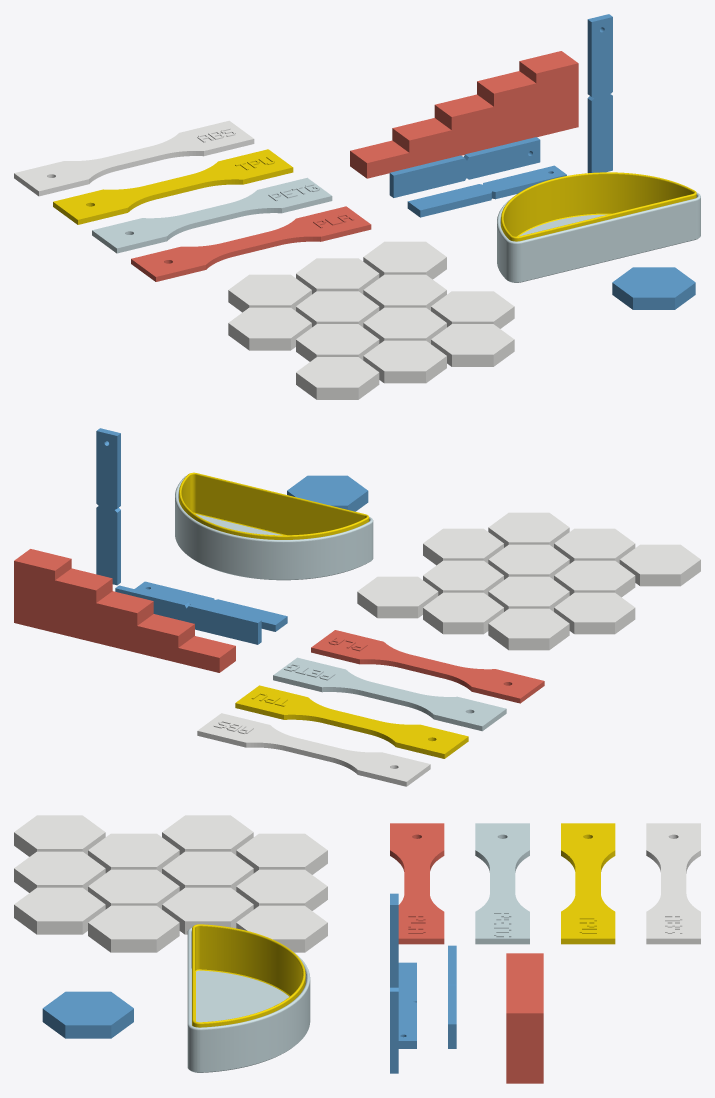
File: piezas-poster-haptico-v2.glb
3 views of the same model, one above another, from view 1: azimuth 30°, elevation 25°; view 2: azimuth 150°, elevation 25°; view 3: azimuth 270°, elevation 25° (orthographic). The views are drawn at different scales.
Visible parts, largest first — view 1: Placa de hexagonos, Escalera de capas, Carcasa PETG, Forro TPU, Probeta PLA, Probeta TPU, Probeta PETG, Probeta ABS, Barra de canto, Barra de pie, Hexagono de relleno, Barra tumbada; view 2: Placa de hexagonos, Escalera de capas, Carcasa PETG, Forro TPU, Probeta TPU, Probeta PLA, Probeta ABS, Probeta PETG, Barra de pie, Barra de canto, Hexagono de relleno, Barra tumbada; view 3: Placa de hexagonos, Carcasa PETG, Forro TPU, Probeta ABS, Probeta PETG, Probeta TPU, Probeta PLA, Escalera de capas, Hexagono de relleno, Barra tumbada, Barra de pie, Barra de canto.
Part boxes in pixels (x1=…): Placa de hexagonos: x1=228, y1=241, x2=514, y2=399; Escalera de capas: x1=350, y1=51, x2=578, y2=178; Carcasa PETG: x1=497, y1=192, x2=700, y2=282; Forro TPU: x1=501, y1=172, x2=696, y2=241; Probeta PLA: x1=131, y1=206, x2=371, y2=281; Probeta TPU: x1=53, y1=149, x2=293, y2=224; Probeta PETG: x1=92, y1=177, x2=332, y2=253; Probeta ABS: x1=14, y1=120, x2=254, y2=196; Barra de canto: x1=389, y1=137, x2=540, y2=197; Barra de pie: x1=587, y1=14, x2=612, y2=172; Hexagono de relleno: x1=612, y1=267, x2=695, y2=309; Barra tumbada: x1=407, y1=165, x2=566, y2=217; Placa de hexagonos: x1=357, y1=512, x2=700, y2=650; Escalera de capas: x1=14, y1=549, x2=235, y2=672; Carcasa PETG: x1=175, y1=476, x2=373, y2=580; Forro TPU: x1=179, y1=472, x2=369, y2=539; Probeta TPU: x1=235, y1=685, x2=468, y2=758; Probeta PLA: x1=311, y1=630, x2=544, y2=703; Probeta ABS: x1=197, y1=713, x2=430, y2=786; Probeta PETG: x1=273, y1=657, x2=506, y2=731; Barra de pie: x1=96, y1=428, x2=120, y2=585; Barra de canto: x1=115, y1=585, x2=261, y2=644; Hexagono de relleno: x1=287, y1=475, x2=368, y2=511; Barra tumbada: x1=134, y1=581, x2=287, y2=631; Placa de hexagonos: x1=14, y1=815, x2=327, y2=952; Carcasa PETG: x1=187, y1=927, x2=310, y2=1072; Forro TPU: x1=192, y1=924, x2=305, y2=1027; Probeta ABS: x1=646, y1=823, x2=700, y2=944; Probeta PETG: x1=475, y1=823, x2=529, y2=944; Probeta TPU: x1=561, y1=823, x2=615, y2=944; Probeta PLA: x1=390, y1=823, x2=444, y2=944; Escalera de capas: x1=506, y1=953, x2=543, y2=1083; Hexagono de relleno: x1=42, y1=991, x2=133, y2=1038; Barra tumbada: x1=398, y1=962, x2=416, y2=1048; Barra de pie: x1=390, y1=893, x2=398, y2=1073; Barra de canto: x1=448, y1=945, x2=456, y2=1048.
Size of the model in its own units: 0.4861 by 0.15 by 0.5542.
